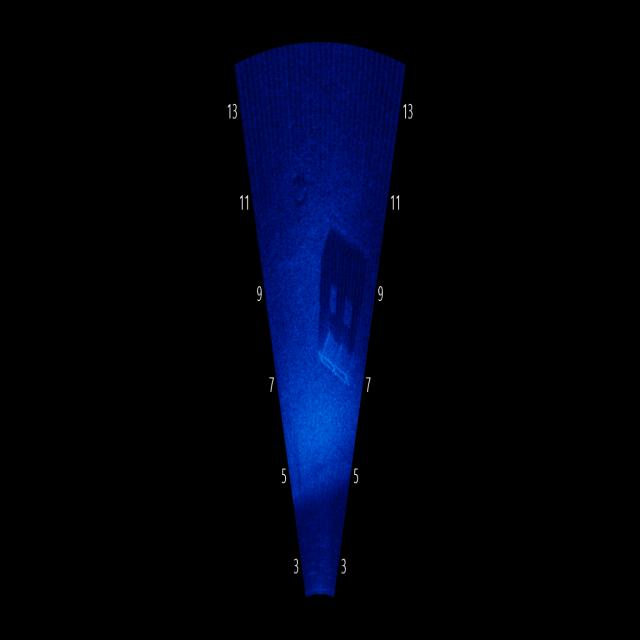square: (313, 317, 360, 403)
